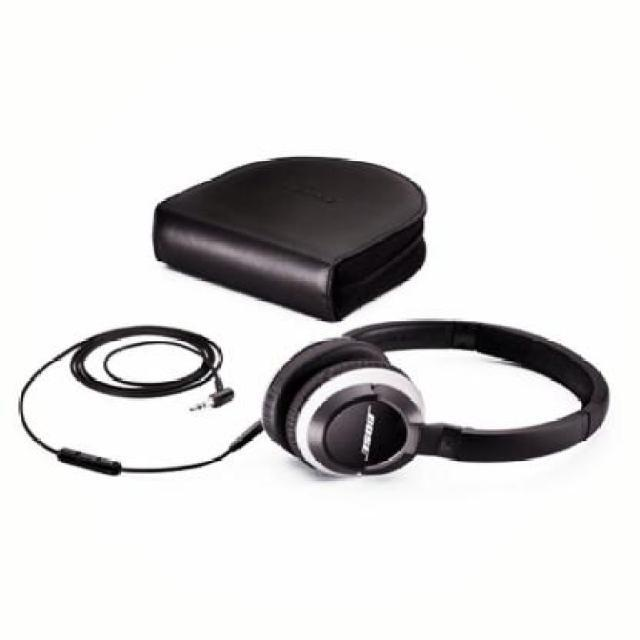earphone: (243, 310, 605, 518)
